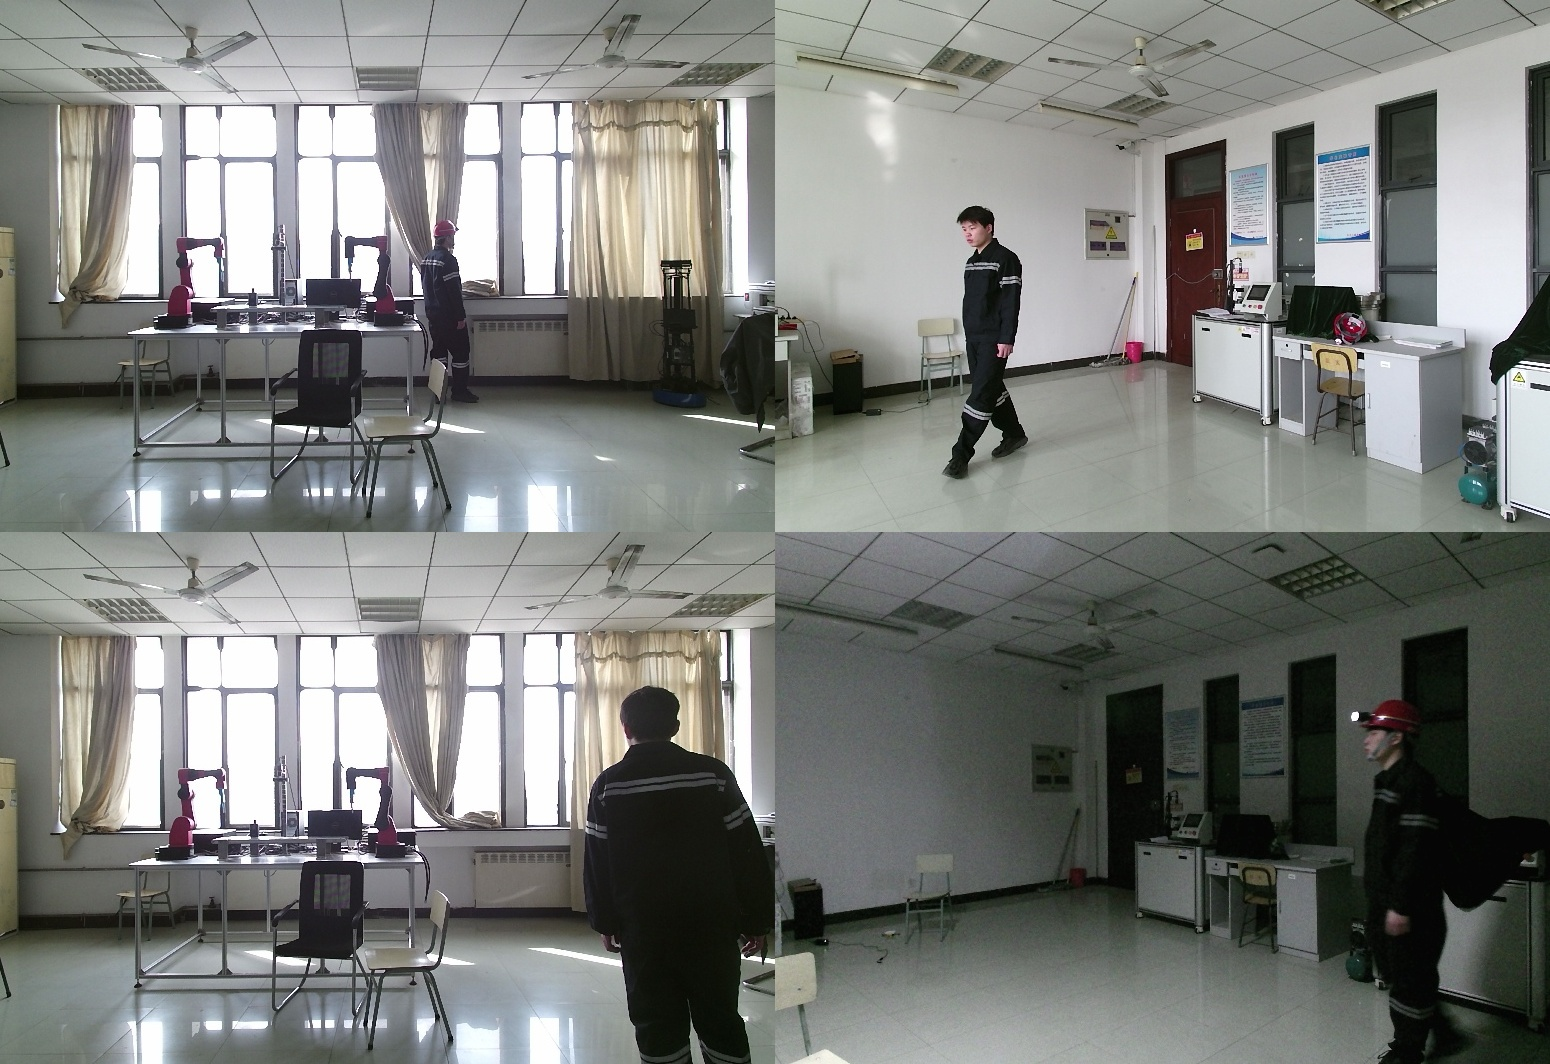person: (582, 686, 769, 1064), (1359, 697, 1470, 1061), (943, 207, 1035, 477), (425, 220, 483, 414)
